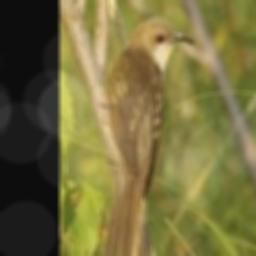Cuckoo: (98, 15, 193, 256)
